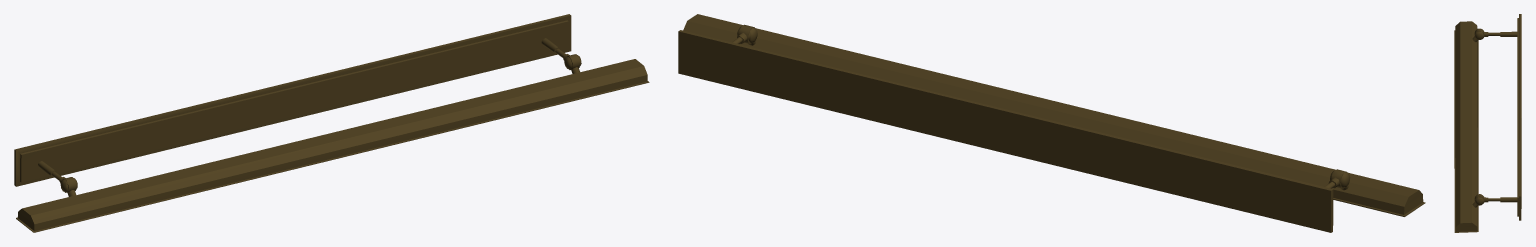
Rendered from Wall lamp.FBX.
The picture shows the model from 3 angles, left to right: view 1: azimuth 30°, elevation 25°; view 2: azimuth 150°, elevation 25°; view 3: azimuth 270°, elevation 25°; orthographic projection. The views are drawn at different scales.
Visible parts, largest first — view 1: wall lamp; view 2: wall lamp; view 3: wall lamp.
Part boxes in pixels (left/top/right/bottom): wall lamp: left=14, top=14, right=649, bottom=232; wall lamp: left=678, top=14, right=1425, bottom=232; wall lamp: left=1454, top=14, right=1521, bottom=232.
Bounding box in the file's own units: 160 × 9.88 × 22.4.
